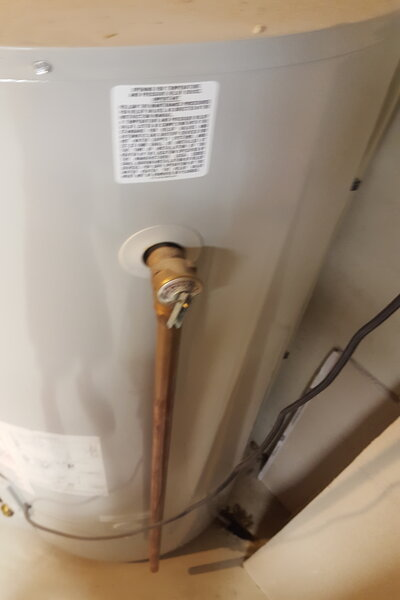valve: (141, 241, 206, 347)
